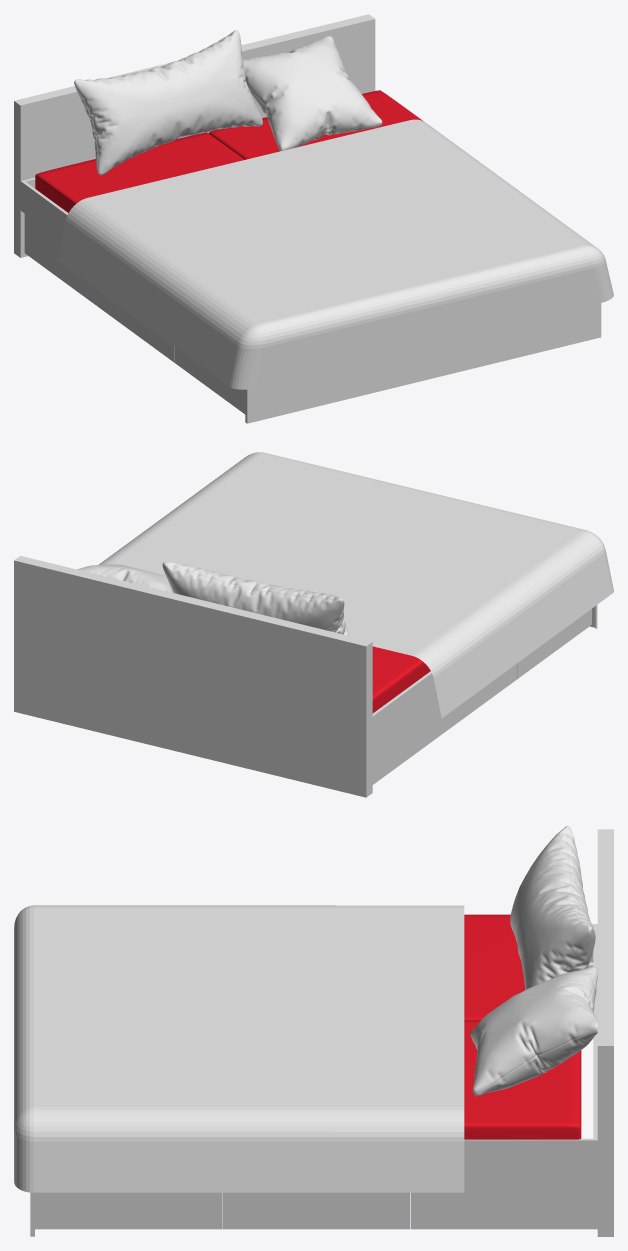
The model's file is Bed.fbx.
The picture shows the model from 3 angles, top to bottom: view 1: azimuth 30°, elevation 25°; view 2: azimuth 150°, elevation 25°; view 3: azimuth 270°, elevation 25°; orthographic projection. The views are drawn at different scales.
Parts seen in each view (by area): view 1: Plane.002, bed_head.001, Pillow_02, Pillow_01.001; view 2: bed_head.001, Plane.002, Pillow_02, Pillow_01.001; view 3: Plane.002, bed_head.001, Pillow_01.001, Pillow_02.
Part boxes in pixels (<box>): Plane.002: <box>57,119,613,389</box>; bed_head.001: <box>14,14,601,423</box>; Pillow_02: <box>74,30,262,175</box>; Pillow_01.001: <box>243,36,382,151</box>; bed_head.001: <box>14,556,597,797</box>; Plane.002: <box>98,452,613,718</box>; Pillow_02: <box>162,562,349,635</box>; Pillow_01.001: <box>77,564,173,592</box>; Plane.002: <box>14,905,464,1192</box>; bed_head.001: <box>30,829,613,1236</box>; Pillow_01.001: <box>470,966,597,1096</box>; Pillow_02: <box>510,826,595,989</box>.
Bounding box in the file's own units: 201 × 89.37 × 218.
